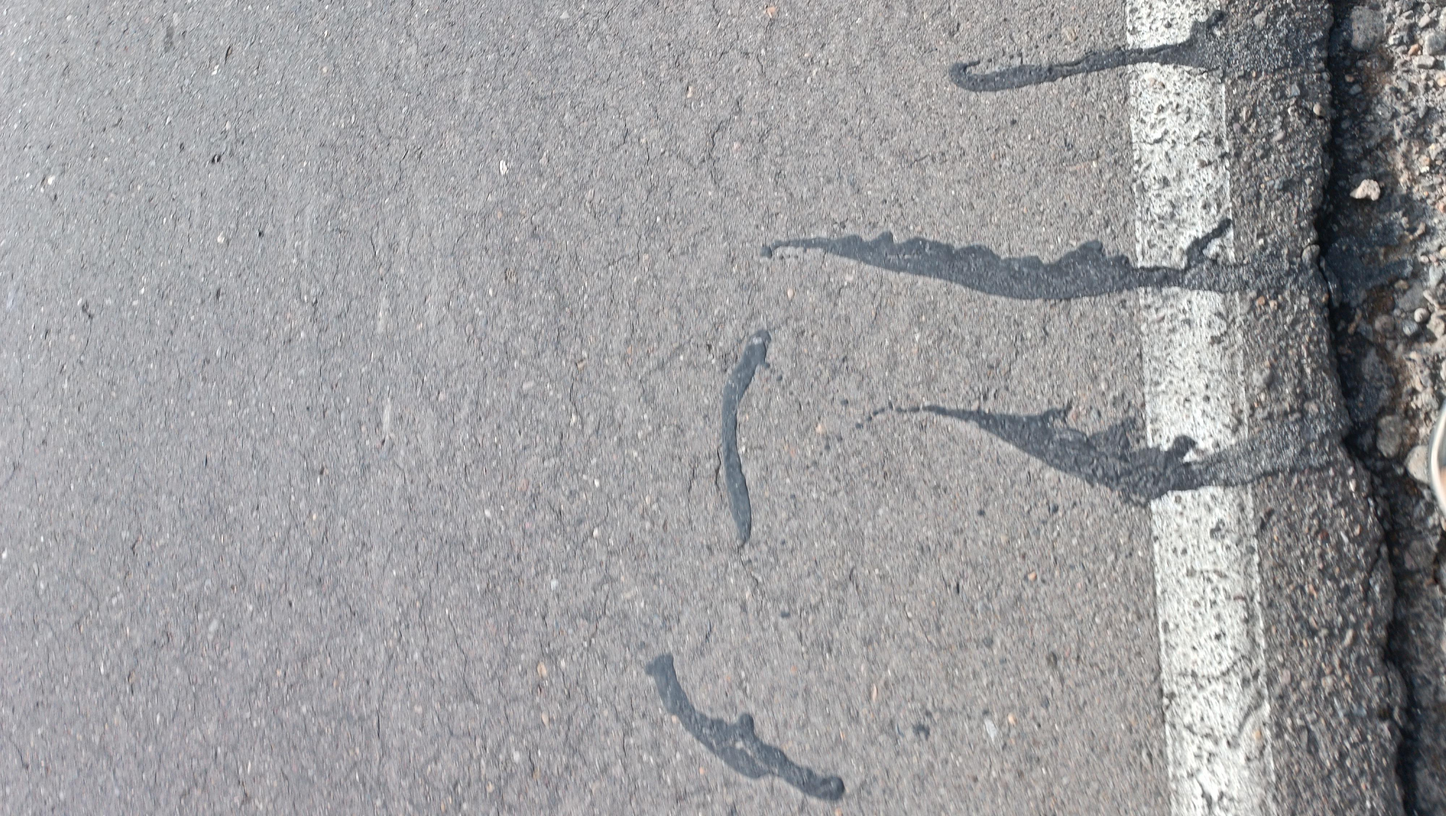PIEL DE COCODRILO: (271, 0, 898, 816), (25, 345, 349, 812)
